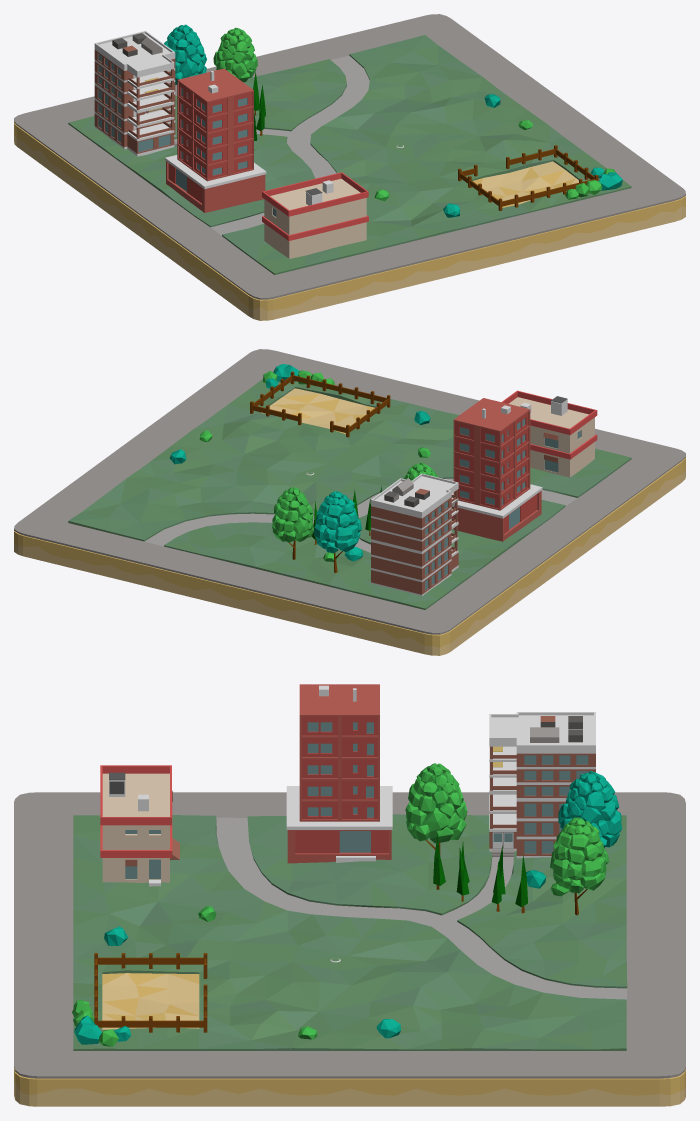
File: map.gltf
3 views of the same model, one above another, from view 1: azimuth 30°, elevation 25°; view 2: azimuth 150°, elevation 25°; view 3: azimuth 270°, elevation 25° (orthographic). The views are drawn at different scales.
Parts seen in each view (by area): view 1: Ground, Building2, Building1, Shop, Fence, Tree0, TreeDark, Pines_0; view 2: Ground, Building2, Building1, Shop, TreeDark, Fence, Tree0; view 3: Ground, Building2, Building1, Shop, Tree1, Tree0, TreeDark, Fence, Pines_0, Icosphere.003.
Part boxes in pixels (box(x1,y1,x2,y2)): Ground: box(14, 14, 685, 320); Building2: box(165, 68, 266, 212); Building1: box(94, 30, 177, 156); Shop: box(262, 172, 368, 258); Fence: box(458, 145, 598, 210); Tree0: box(213, 27, 257, 82); TreeDark: box(164, 24, 206, 84); Pines_0: box(253, 72, 265, 140); Ground: box(14, 349, 685, 655); Building2: box(451, 398, 542, 541); Building1: box(371, 473, 458, 595); Shop: box(501, 390, 597, 477); TreeDark: box(314, 491, 361, 573); Fence: box(250, 371, 390, 437); Tree0: box(272, 487, 313, 559); Ground: box(14, 792, 685, 1106); Building2: box(286, 684, 392, 863); Building1: box(489, 712, 595, 858); Shop: box(100, 765, 179, 886); Tree1: box(405, 763, 467, 855); Tree0: box(550, 817, 609, 915); TreeDark: box(558, 771, 621, 847); Fence: box(94, 953, 207, 1032); Pines_0: box(433, 832, 527, 913); Icosphere.003: box(74, 1015, 130, 1044).
Size of the model in its own units: 40 by 12.26 by 40.
